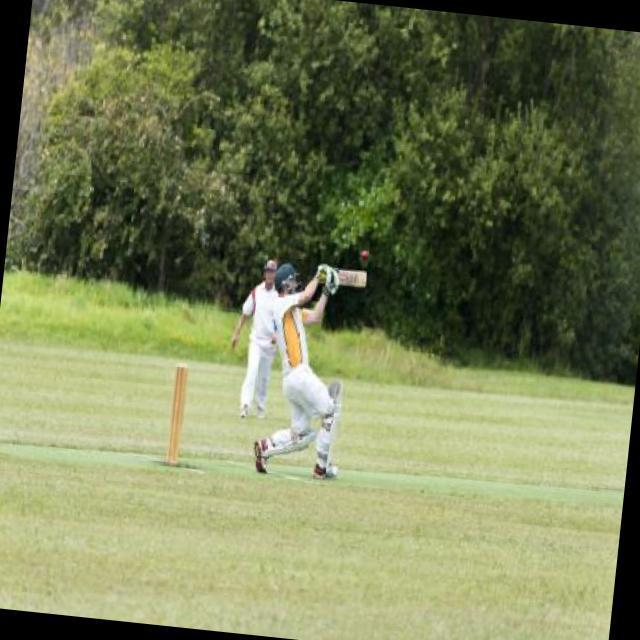-: (345, 230, 388, 277)
